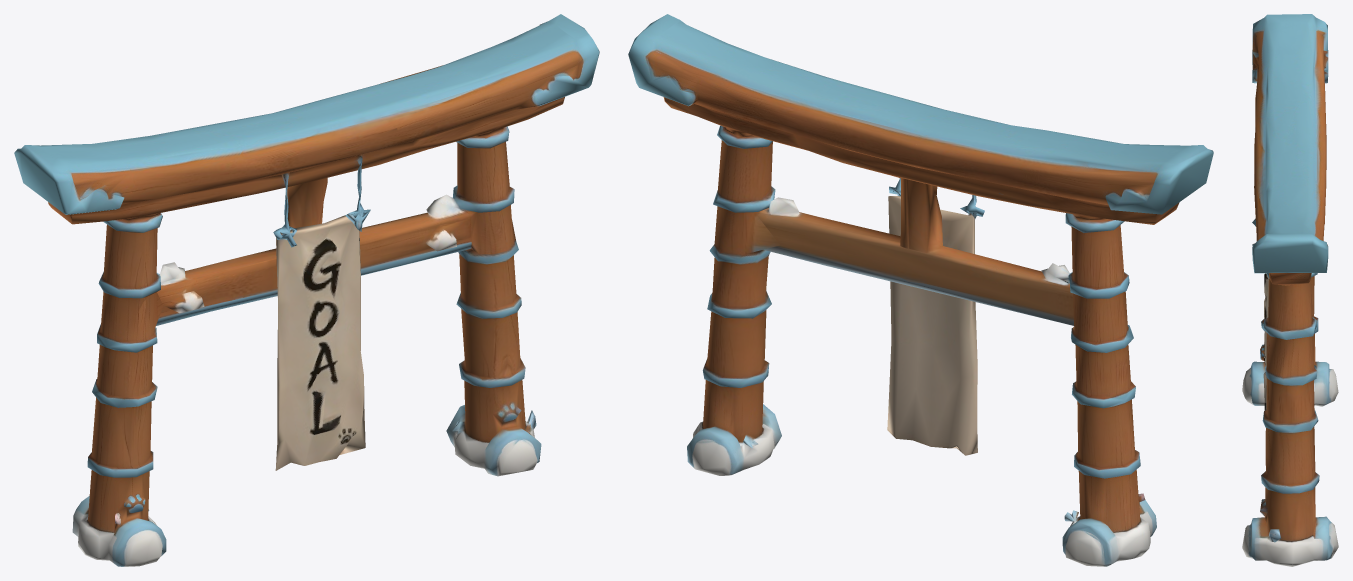
Rendered from nyanisyarud-torii-gate.glb.
3 renders of one model, left to right at view 1: azimuth 30°, elevation 25°; view 2: azimuth 150°, elevation 25°; view 3: azimuth 270°, elevation 25°, orthographic. The views are drawn at different scales.
Parts seen in each view (by area): view 1: tripo_node_a6b875fe-393b-476f-b63d-9bef64e37700; view 2: tripo_node_a6b875fe-393b-476f-b63d-9bef64e37700; view 3: tripo_node_a6b875fe-393b-476f-b63d-9bef64e37700.
Part boxes in pixels (x1,y1,x2,y2): tripo_node_a6b875fe-393b-476f-b63d-9bef64e37700: (14, 14, 599, 566); tripo_node_a6b875fe-393b-476f-b63d-9bef64e37700: (628, 14, 1213, 566); tripo_node_a6b875fe-393b-476f-b63d-9bef64e37700: (1242, 14, 1338, 566).
Size of the model in its own units: 0.981 by 0.7073 by 0.1767.
Materials: 1 (1 with a texture image).
